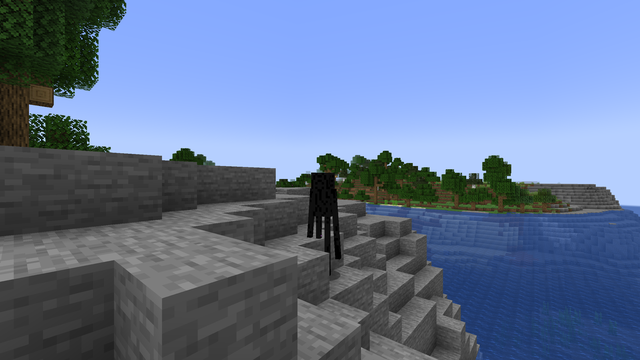endermens: (307, 169, 337, 277)
